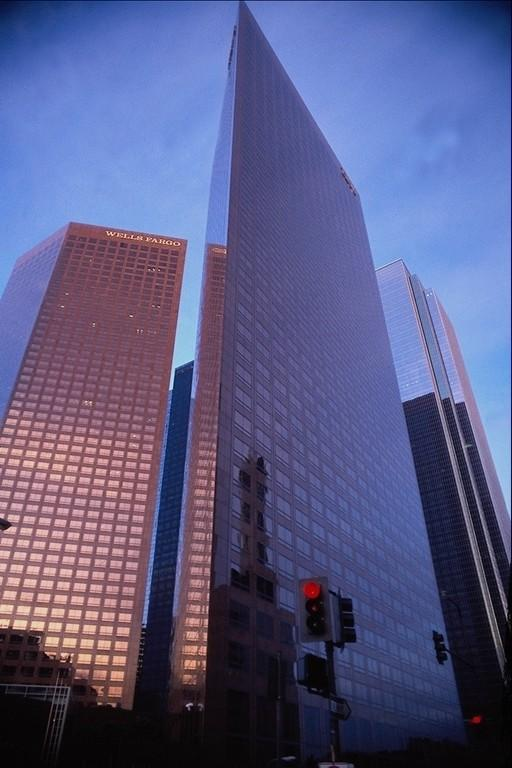building: (172, 0, 512, 768), (0, 221, 195, 710)
